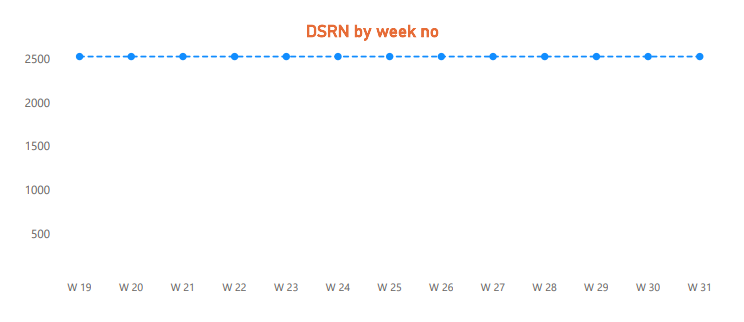

The dashboard page shown, as its layout file describes it:
{"tool":"powerbi","page":{"name":"Revenue","canvas":[700,400],"ordinal":1},"visuals":[{"type":"lineChart","fields":{"Category":["dim_date.week no"],"Y":["key_measures.Revenue"],"Series":["dim_hotals.category"]},"box":[35.3,58.4,640.4,256.7],"z":0}]}

Visuals, with their boxes on the page's 700x400 design canvas (x1, y1, x2, y2). These are canvas units, not pixel positions in the 744x322 screenshot, which may show the page scaled, cropped or inside an application window:
lineChart - dim_date.week no x key_measures.Revenue: [x1=35, y1=58, x2=676, y2=315]
